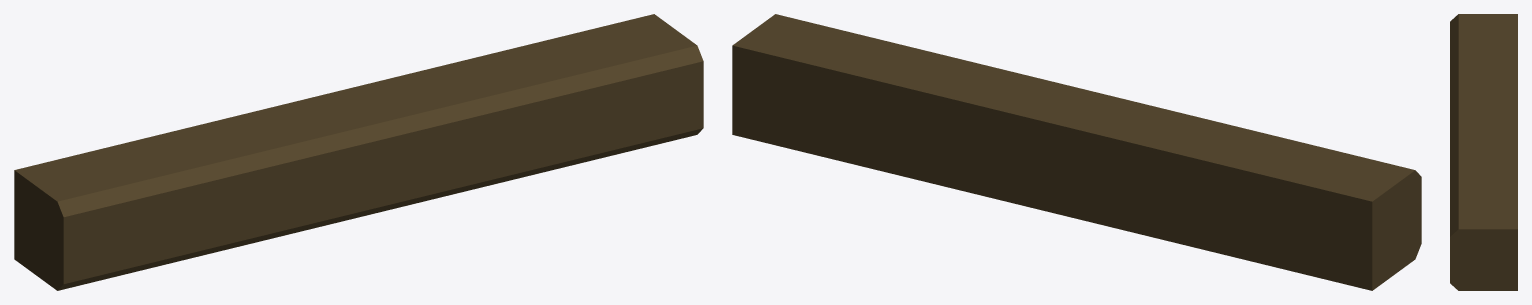
Rendered from fantasy_divider_wood_1.fbx.
The picture shows the model from 3 angles, left to right: view 1: azimuth 30°, elevation 25°; view 2: azimuth 150°, elevation 25°; view 3: azimuth 270°, elevation 25°; orthographic projection. The views are drawn at different scales.
Visible parts, largest first — view 1: Cube.020; view 2: Cube.020; view 3: Cube.020.
Part boxes in pixels (box(x1,y1,x2,y2)): Cube.020: box(14, 14, 703, 290); Cube.020: box(732, 14, 1421, 290); Cube.020: box(1450, 14, 1517, 290).
Bounding box in the file's own units: 300 × 40 × 40.
